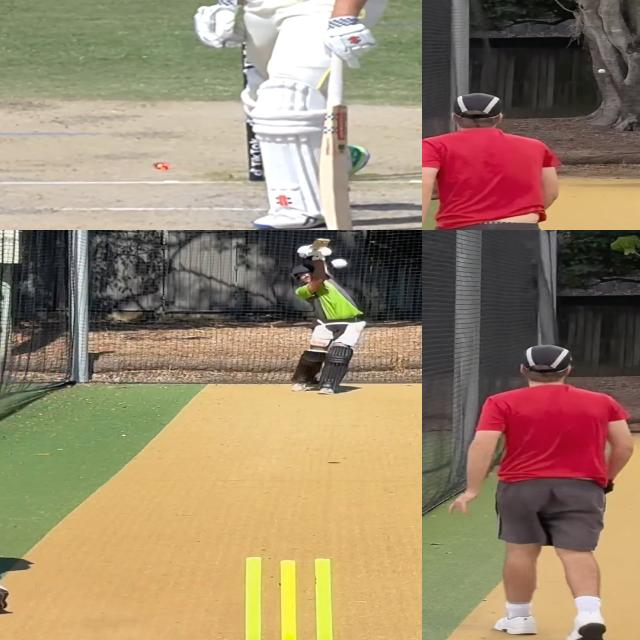Cricket ball: (327, 257, 353, 270), (596, 67, 608, 75)
Stumps: (222, 555, 357, 640)
